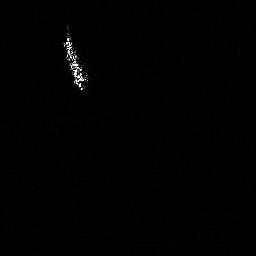ship: (60, 26, 91, 93)
